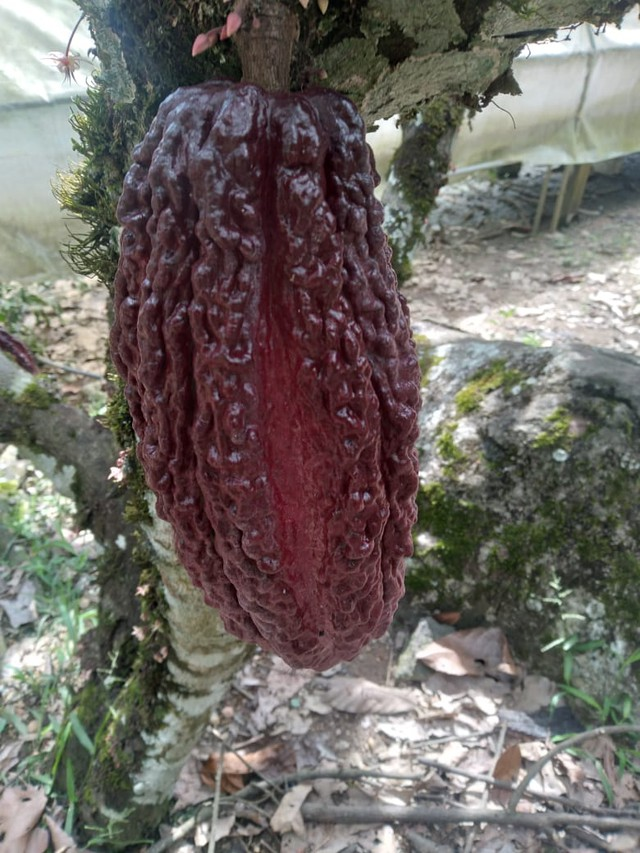Health: (75, 43, 461, 693)
